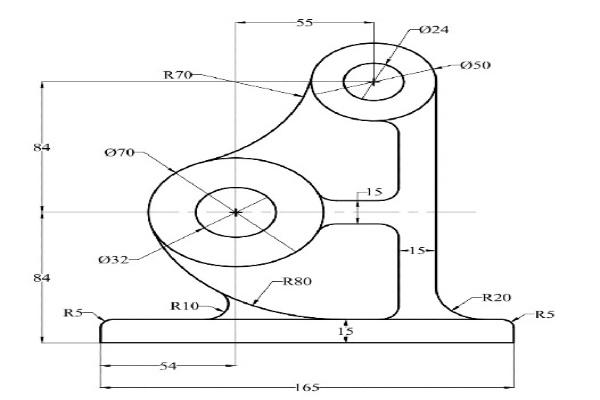dimensions: (279, 271, 315, 292), (101, 142, 137, 162), (96, 249, 131, 269), (164, 298, 202, 316), (159, 66, 195, 84), (416, 21, 449, 39), (55, 304, 87, 322), (293, 378, 325, 396), (458, 58, 493, 74), (530, 305, 556, 323), (291, 15, 316, 33), (482, 290, 513, 304), (31, 139, 57, 154), (408, 241, 428, 260), (364, 184, 386, 201), (334, 323, 357, 339), (29, 271, 53, 286), (158, 358, 180, 374)
